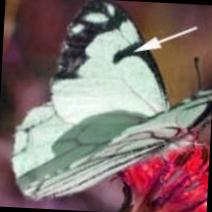butterfly: (12, 0, 212, 200)
